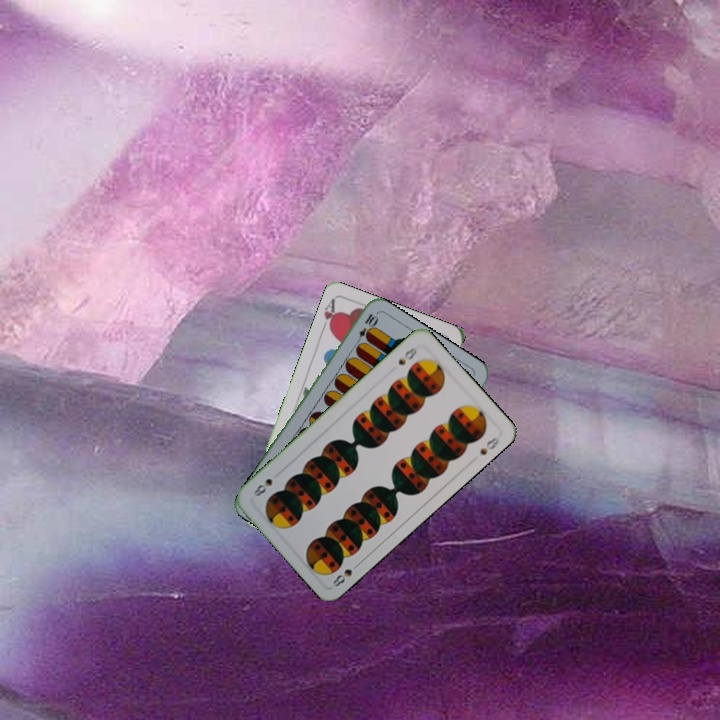E10: (352, 309, 379, 348)
HA: (317, 295, 340, 335)
S8: (328, 558, 363, 589), (394, 343, 420, 368)
